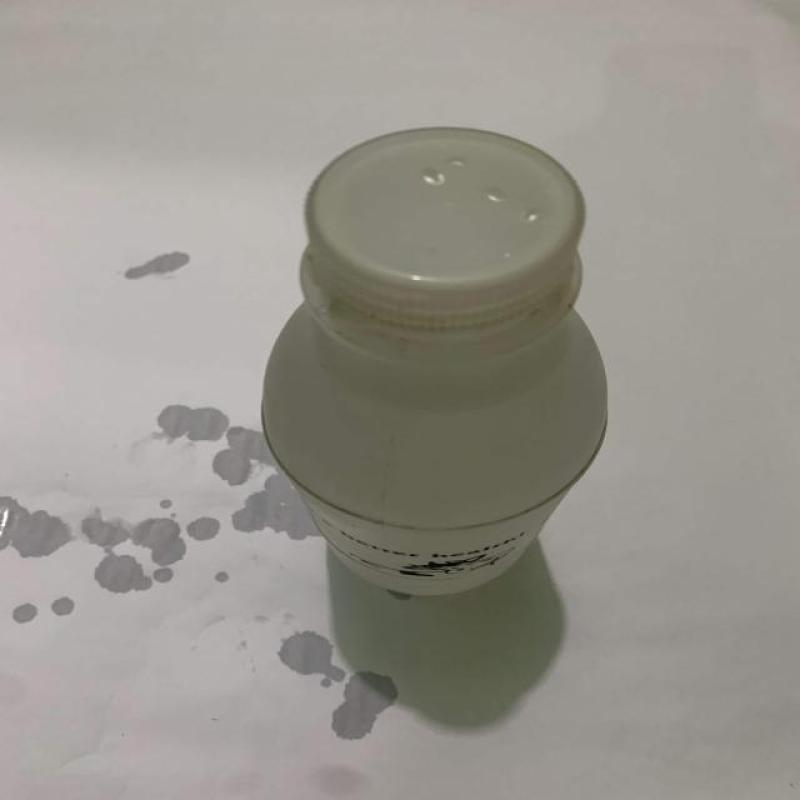botella: (255, 128, 611, 602)
